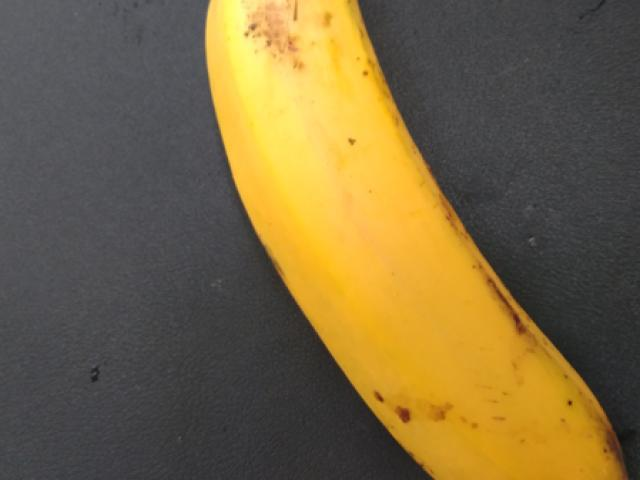ripe: (195, 8, 639, 479)
